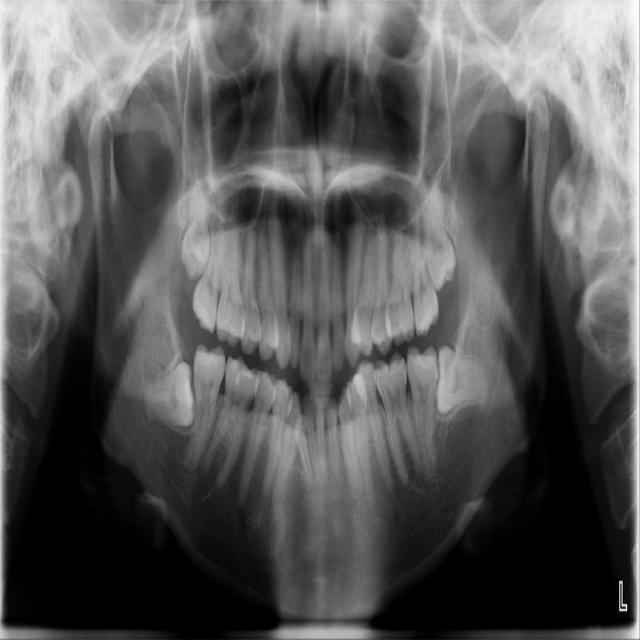Filling: (230, 359, 256, 388)
impacted tooth: (421, 176, 460, 288), (435, 347, 489, 416), (179, 191, 214, 279), (144, 362, 193, 424)
